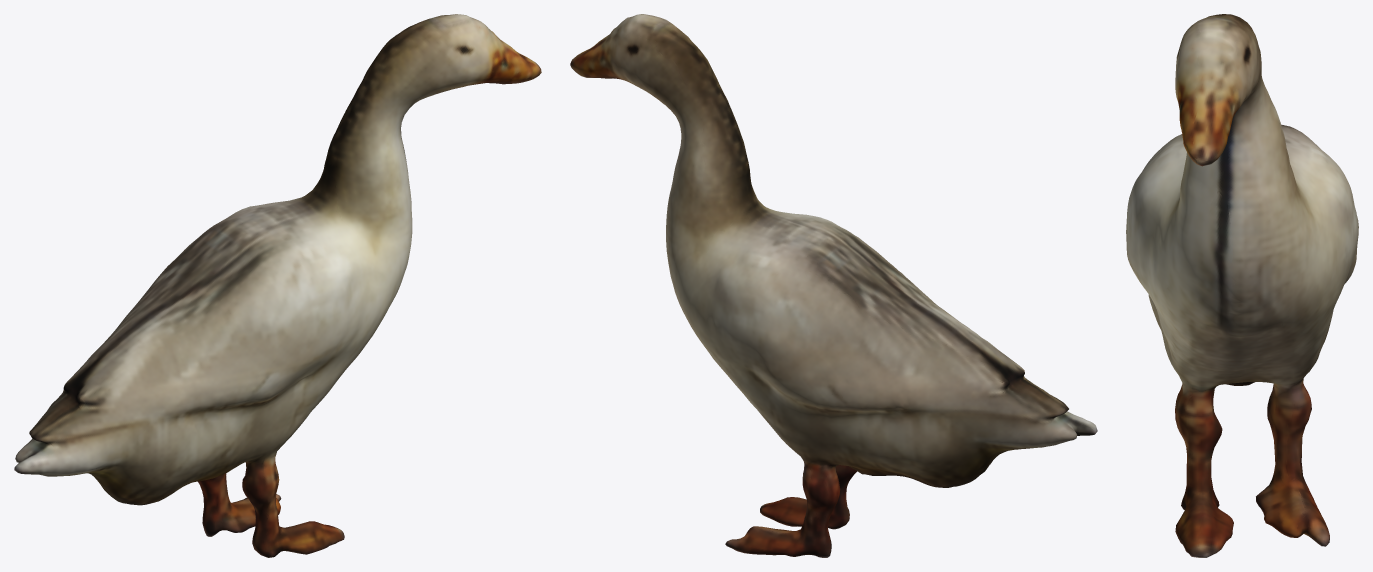
Rendered from adulto.glb.
The picture shows the model from 3 angles, left to right: view 1: azimuth 30°, elevation 25°; view 2: azimuth 150°, elevation 25°; view 3: azimuth 270°, elevation 25°; orthographic projection. The views are drawn at different scales.
Visible parts, largest first — view 1: mesh; view 2: mesh; view 3: mesh.
Part boxes in pixels (x1=…): mesh: x1=14, y1=14, x2=541, y2=557; mesh: x1=570, y1=14, x2=1097, y2=557; mesh: x1=1126, y1=14, x2=1358, y2=557.
Bounding box in the file's own units: 1.69 × 1.47 × 0.5145.
Materials: 1 (1 with a texture image).
